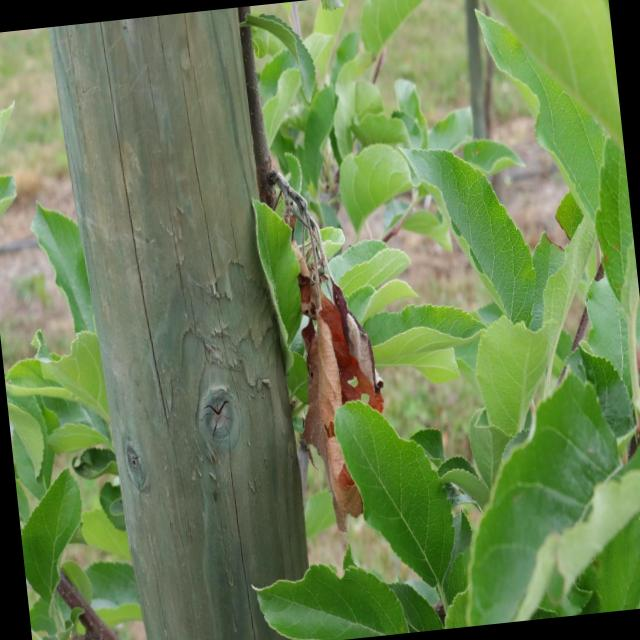-FireBlight-: (272, 208, 388, 544)
